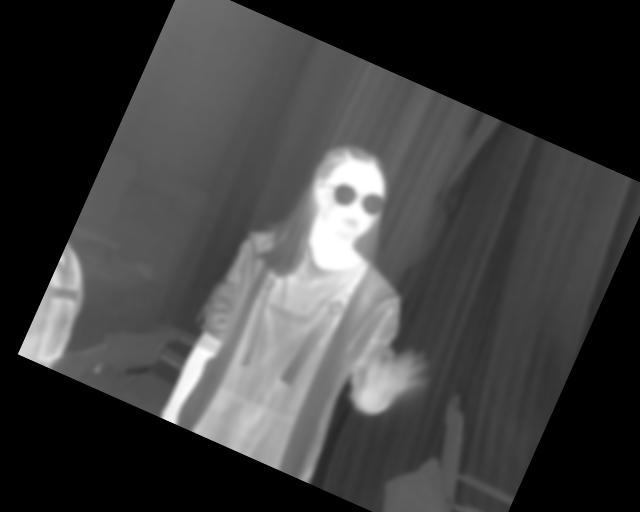face: (296, 136, 402, 252)
